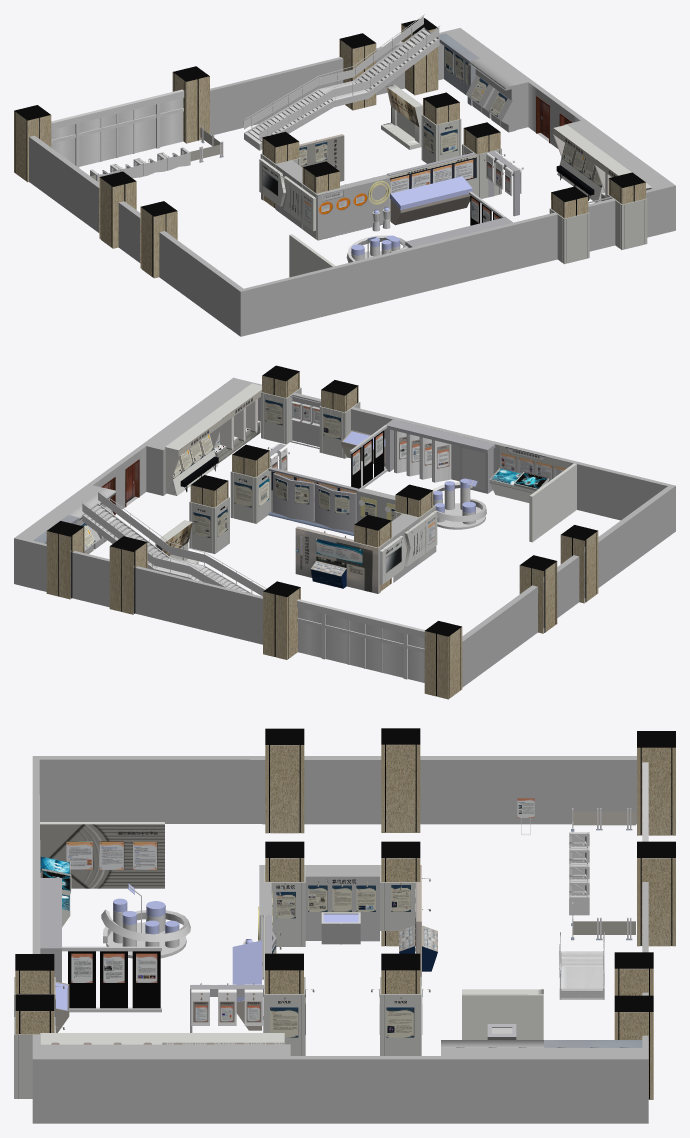
File: ISCAS_museum.dae
The picture shows the model from 3 angles, top to bottom: view 1: azimuth 30°, elevation 25°; view 2: azimuth 150°, elevation 25°; view 3: azimuth 270°, elevation 25°; orthographic projection. The views are drawn at different scales.
Parts seen in each view (by area): view 1: qm, men051, lt047, FBXASC04847, Line067, FBXASC04849, FBXASC04837, gz050, FBXASC229FBXASC175FBXASC185FBXASC232FBXASC177FBXASC161047, FBXASC229FBXASC175FBXASC185FBXASC232FBXASC177FBXASC161027, FBXASC229FBXASC175FBXASC185FBXASC232FBXASC177FBXASC161028, jg50 (+19 smaller); view 2: qm, men051, jg50, FBXASC04847, FBXASC04837, lt047, Rectangle275, FBXASC229FBXASC175FBXASC185FBXASC232FBXASC177FBXASC161048, FBXASC229FBXASC175FBXASC185FBXASC232FBXASC177FBXASC161047, Line001, qiang02, FBXASC0514 (+21 smaller); view 3: qm, FBXASC04847, FBXASC04836, qiang02, FBXASC229FBXASC175FBXASC185FBXASC232FBXASC177FBXASC161027, FBXASC229FBXASC175FBXASC185FBXASC232FBXASC177FBXASC161028, men051, Line067, FBXASC229FBXASC175FBXASC185FBXASC232FBXASC177FBXASC161047, paimian, FBXASC229FBXASC175FBXASC185FBXASC232FBXASC177FBXASC161048, FBXASC04851 (+23 smaller).
Part boxes in pixels (bbox=[...]): qm: bbox=[29, 28, 675, 336]; men051: bbox=[51, 89, 223, 182]; lt047: bbox=[243, 14, 440, 150]; FBXASC04847: bbox=[260, 114, 647, 264]; Line067: bbox=[275, 160, 389, 240]; FBXASC04849: bbox=[438, 33, 516, 132]; FBXASC04837: bbox=[553, 124, 651, 202]; gz050: bbox=[390, 176, 472, 225]; FBXASC229FBXASC175FBXASC185FBXASC232FBXASC177FBXASC161047: bbox=[172, 66, 209, 143]; FBXASC229FBXASC175FBXASC185FBXASC232FBXASC177FBXASC161027: bbox=[140, 201, 177, 278]; FBXASC229FBXASC175FBXASC185FBXASC232FBXASC177FBXASC161028: bbox=[99, 171, 136, 248]; jg50: bbox=[386, 150, 610, 247]; qm: bbox=[14, 377, 675, 687]; men051: bbox=[297, 599, 424, 682]; jg50: bbox=[268, 395, 495, 531]; FBXASC04847: bbox=[189, 387, 434, 582]; FBXASC04837: bbox=[165, 383, 261, 495]; lt047: bbox=[82, 489, 266, 596]; Rectangle275: bbox=[295, 526, 380, 593]; FBXASC229FBXASC175FBXASC185FBXASC232FBXASC177FBXASC161048: bbox=[424, 621, 462, 699]; FBXASC229FBXASC175FBXASC185FBXASC232FBXASC177FBXASC161047: bbox=[263, 581, 300, 659]; Line001: bbox=[180, 456, 395, 537]; qiang02: bbox=[529, 463, 576, 542]; FBXASC0514: bbox=[394, 430, 451, 482]; qm: bbox=[32, 756, 648, 1123]; FBXASC04847: bbox=[14, 865, 421, 1098]; FBXASC04836: bbox=[62, 946, 161, 1012]; qiang02: bbox=[40, 822, 164, 888]; FBXASC229FBXASC175FBXASC185FBXASC232FBXASC177FBXASC161027: bbox=[265, 728, 304, 833]; FBXASC229FBXASC175FBXASC185FBXASC232FBXASC177FBXASC161028: bbox=[381, 728, 420, 832]; men051: bbox=[569, 762, 648, 940]; Line067: bbox=[259, 865, 379, 979]; FBXASC229FBXASC175FBXASC185FBXASC232FBXASC177FBXASC161047: bbox=[637, 841, 675, 946]; paimian: bbox=[462, 989, 543, 1039]; FBXASC229FBXASC175FBXASC185FBXASC232FBXASC177FBXASC161048: bbox=[637, 731, 675, 835]; FBXASC04851: bbox=[101, 883, 190, 958].
Bounding box in the file's own units: 22.49 × 20.48 × 4.1.
